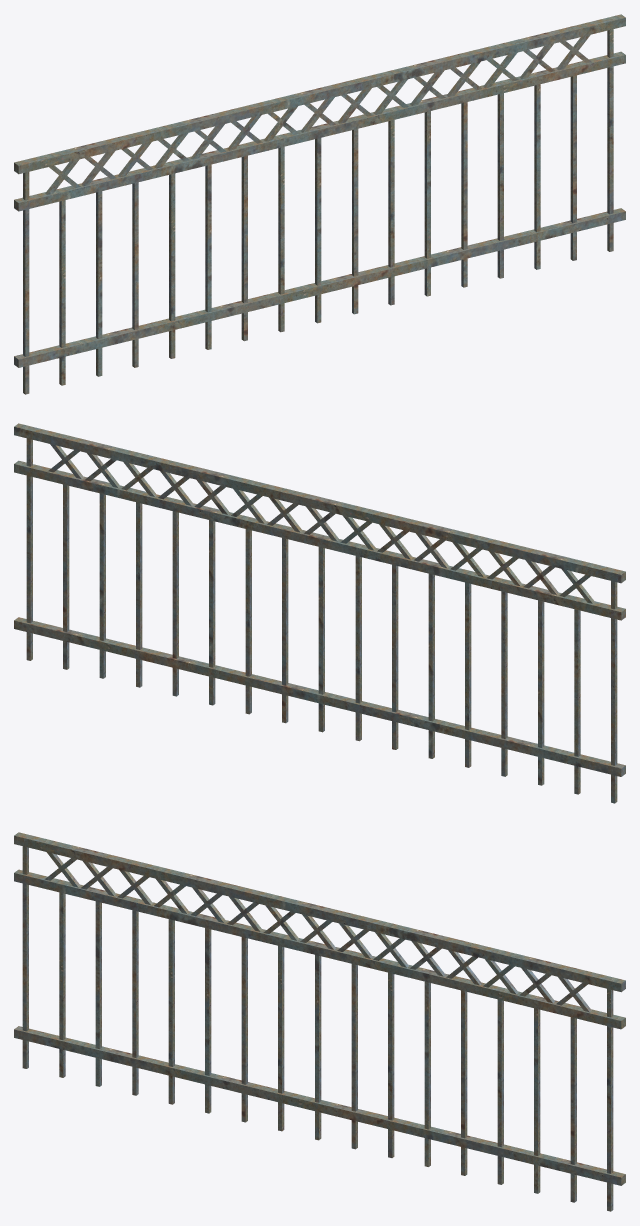
The model's file is fence12.FBX.
3 views of the same model, one above another, from view 1: azimuth 30°, elevation 25°; view 2: azimuth 150°, elevation 25°; view 3: azimuth 330°, elevation 25° (orthographic).
Parts seen in each view (by area): view 1: metal_fence_large_cross; view 2: metal_fence_large_cross; view 3: metal_fence_large_cross.
Part boxes in pixels (<box>): metal_fence_large_cross: <box>14,14,625,394</box>; metal_fence_large_cross: <box>14,423,625,803</box>; metal_fence_large_cross: <box>14,832,625,1211</box>.
Bounding box in the file's own units: 476 × 173 × 6.31.
